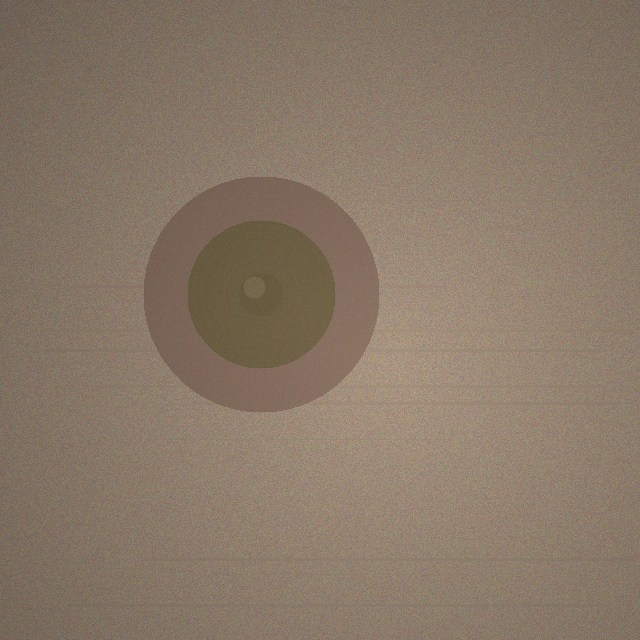good: (143, 176, 379, 412)
